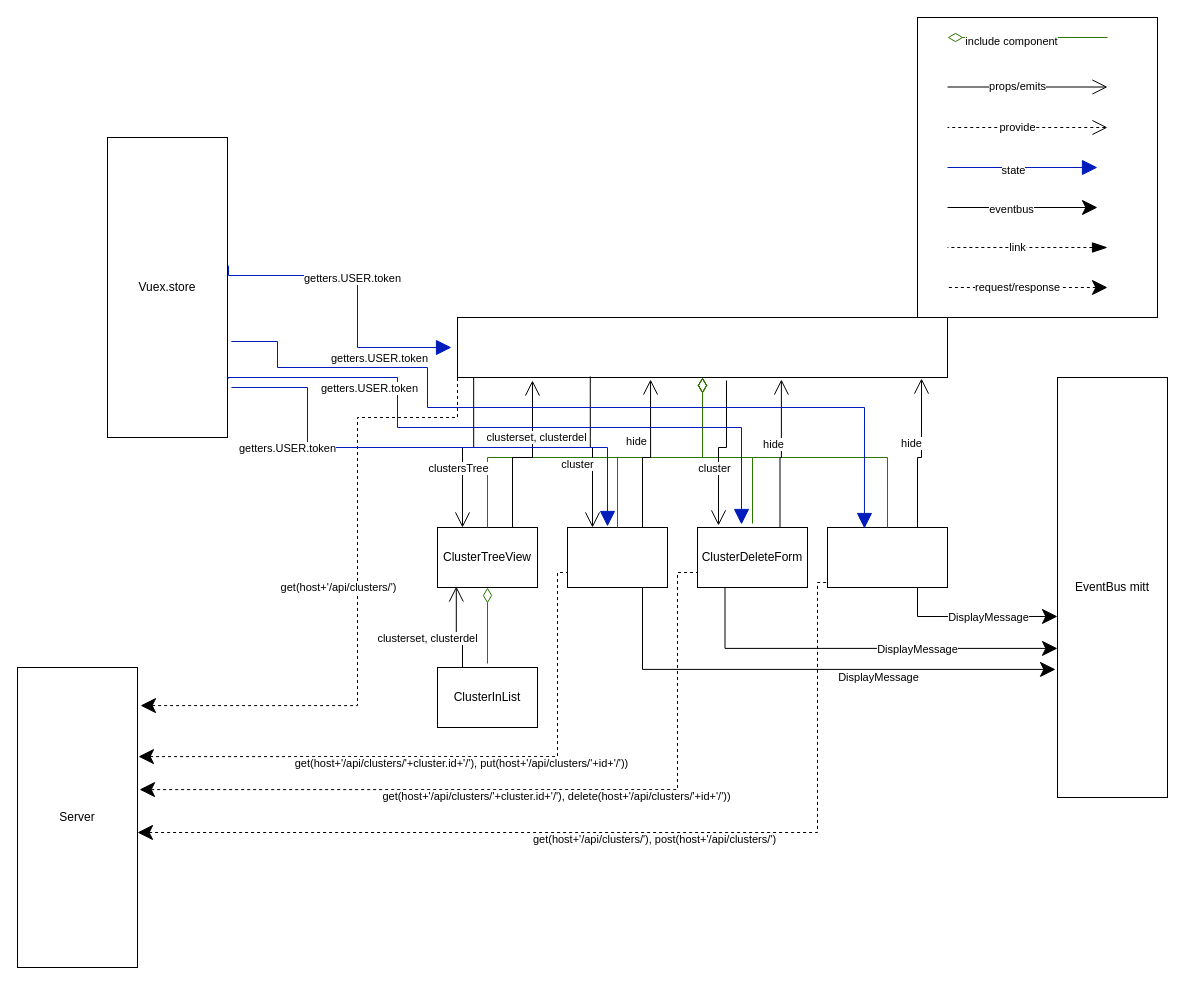
Image size: 1185x985. Some labels were removed from this diagram. The box of each missing label's shape, as (x1, y1, x2, y2) in pixels:
ClusterEditForm: (566, 526, 668, 588)
ClusterList: (456, 316, 948, 378)
ClusterRegisterForm: (826, 526, 948, 588)
